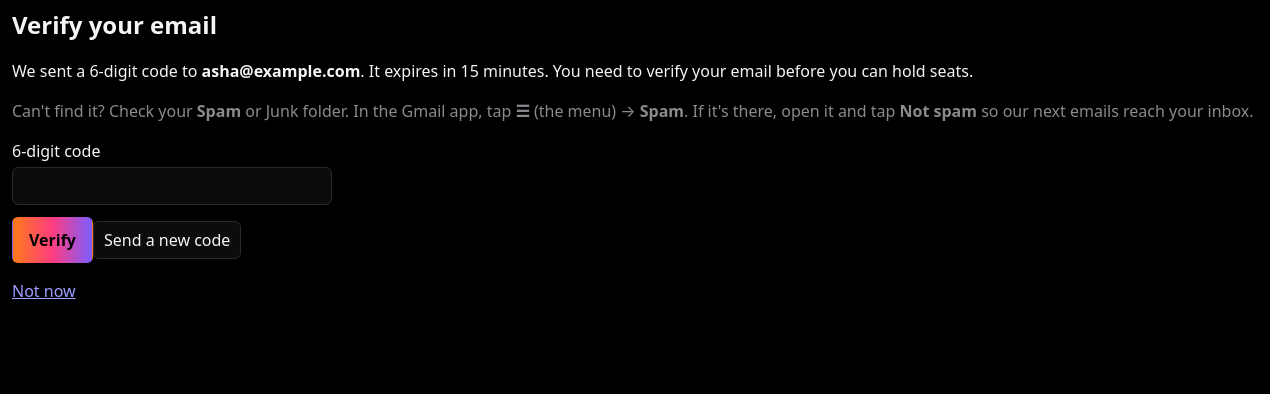
Test: VerifyPage › explains a wrong, locked or expired code
Type "111111" into the field labelled "6-digit code".
click(172, 186); type("111111")  # box [12, 167, 332, 205]
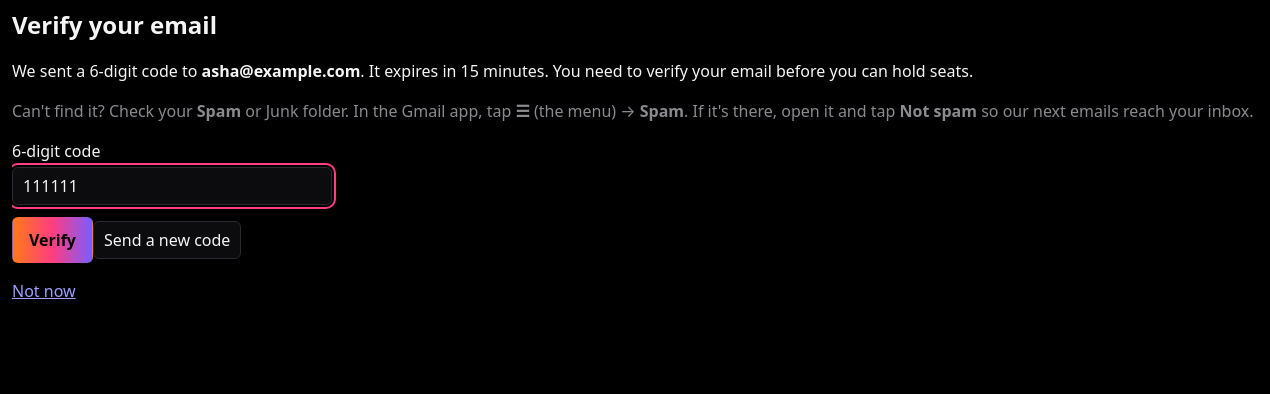
Click the button "Verify".
click(52, 240)  # box [12, 217, 93, 263]
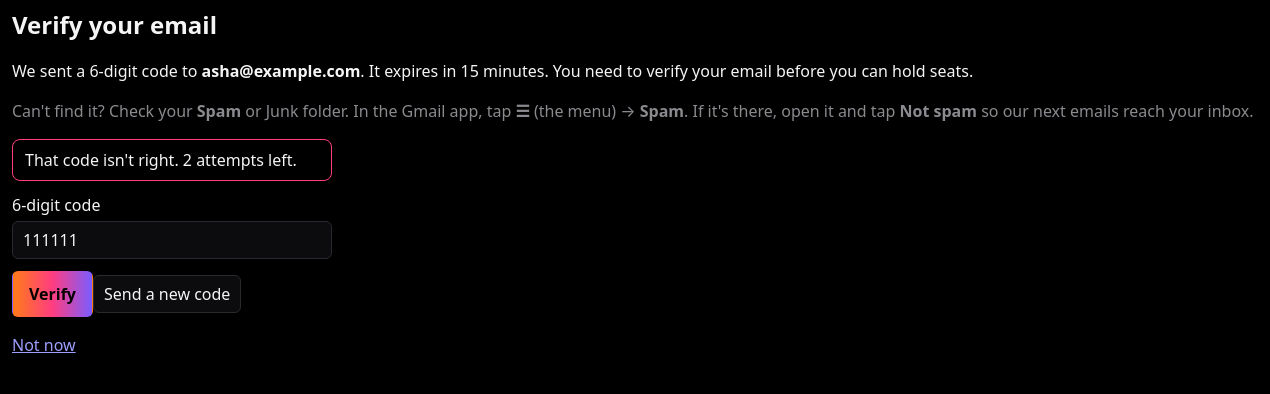
Expected: the message reads "That code isn't right. 2 attempts left.", [25, 149, 297, 171]
Click the button "Verify".
click(52, 294)  # box [12, 271, 93, 317]
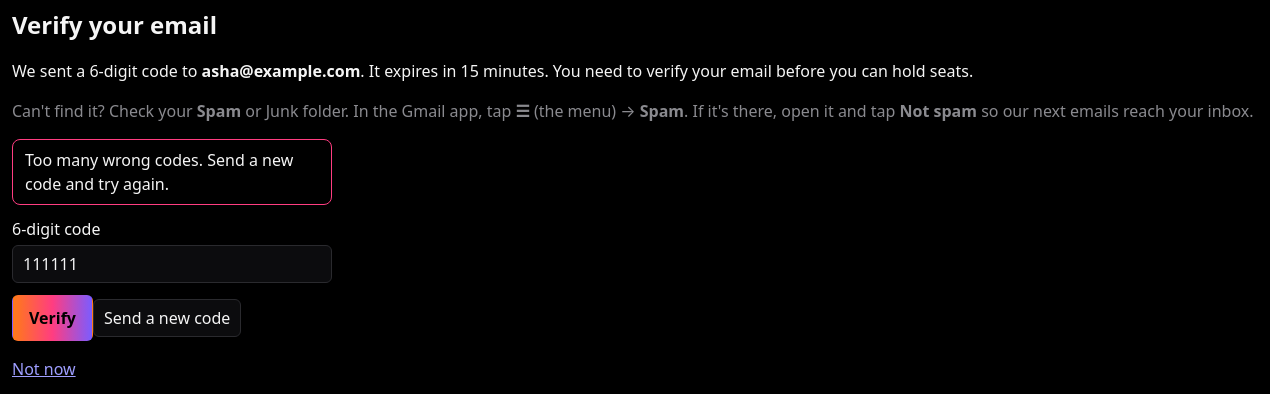
Expected: the message shows "Too many wrong codes. Send a new code", [25, 149, 293, 195]
Click the button "Verify".
click(52, 318)  # box [12, 295, 93, 341]
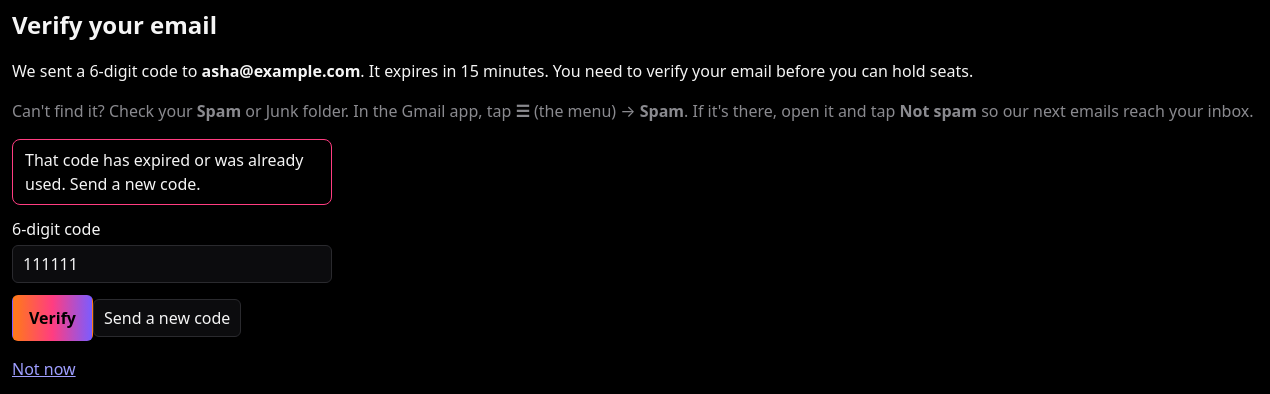
Expected: the message shows "has expired", [25, 149, 303, 195]
